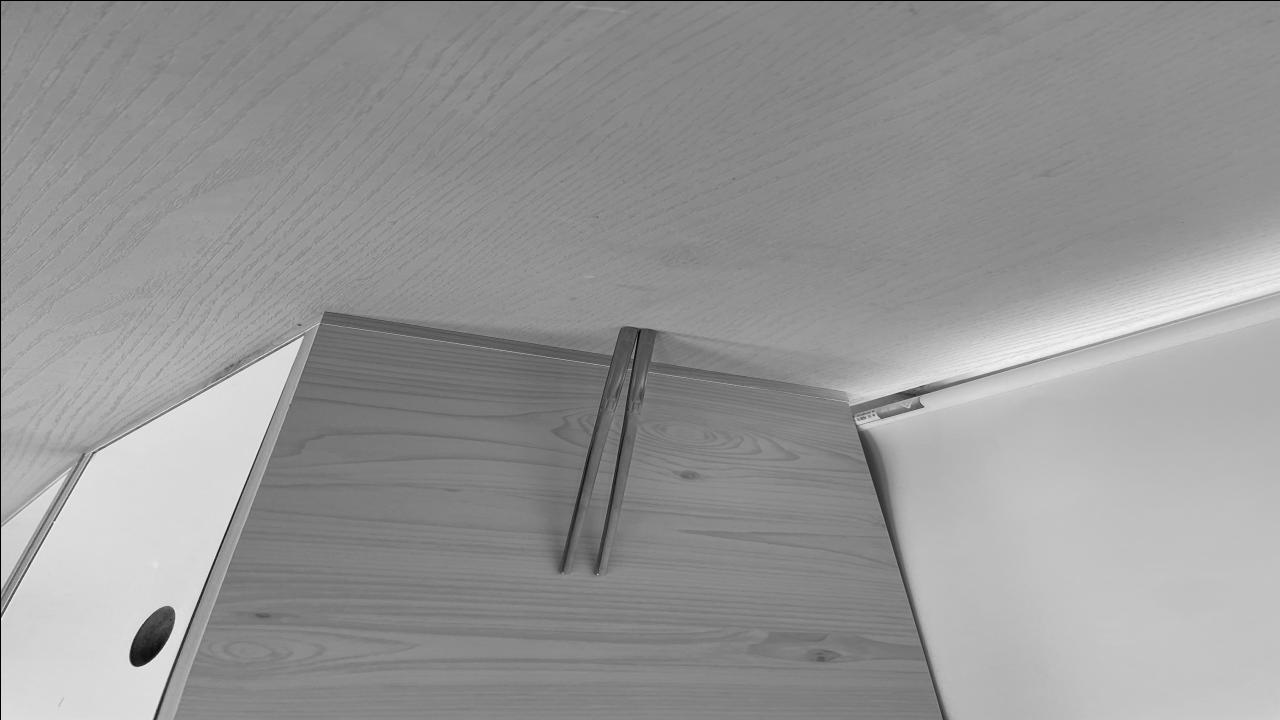chopstick: (552, 326, 660, 574)
